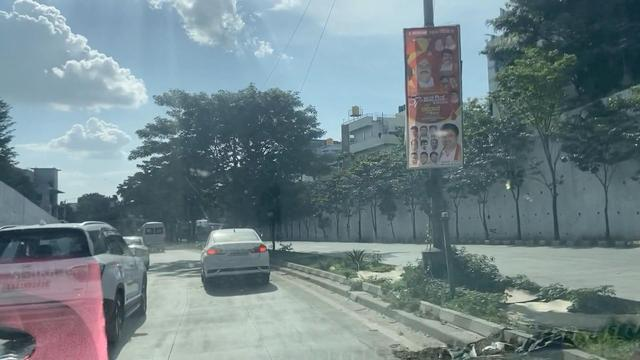LMV: (0, 221, 149, 334), (201, 228, 271, 288)
